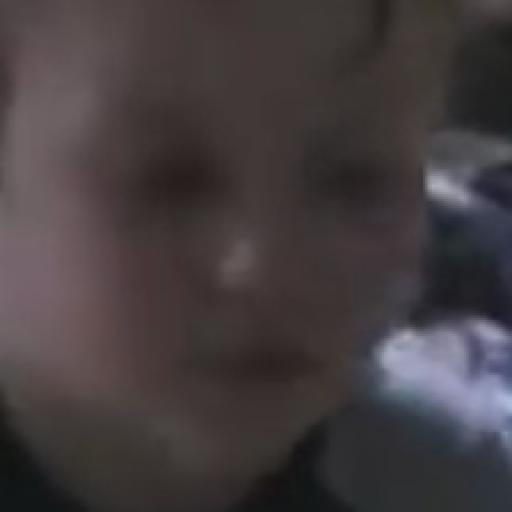Autism: (14, 1, 512, 511)
